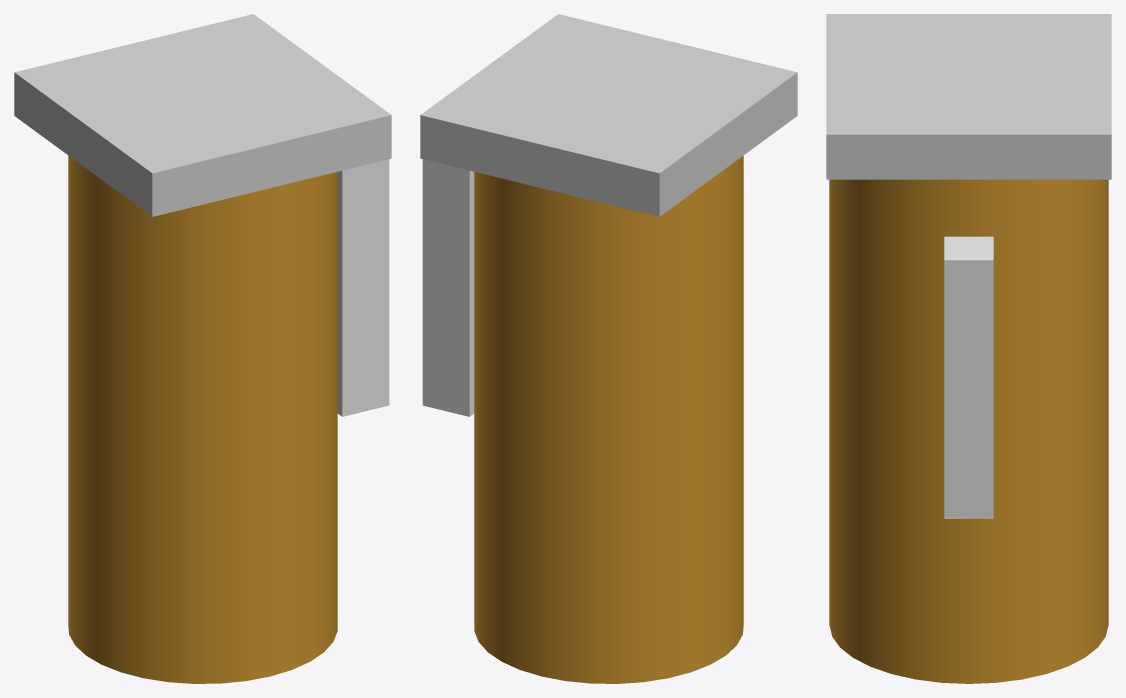
Rendered from body-cutout-qa-accessory.glb.
3 renders of one model, left to right at view 1: azimuth 30°, elevation 25°; view 2: azimuth 150°, elevation 25°; view 3: azimuth 270°, elevation 25°, orthographic. The views are drawn at different scales.
Visible parts, largest first — view 1: body_mesh, lid_mesh, handle_mesh; view 2: body_mesh, lid_mesh, handle_mesh; view 3: body_mesh, lid_mesh, handle_mesh.
Boxes of the visible parts, x1,y1,x2,y2 form: body_mesh: (68,155,337,683); lid_mesh: (14,14,391,216); handle_mesh: (337,159,389,416); body_mesh: (474,155,743,683); lid_mesh: (420,14,797,216); handle_mesh: (422,159,474,416); body_mesh: (829,179,1108,683); lid_mesh: (826,14,1111,179); handle_mesh: (944,236,993,518).
Size of the model in its own units: 113 by 196 by 92.
